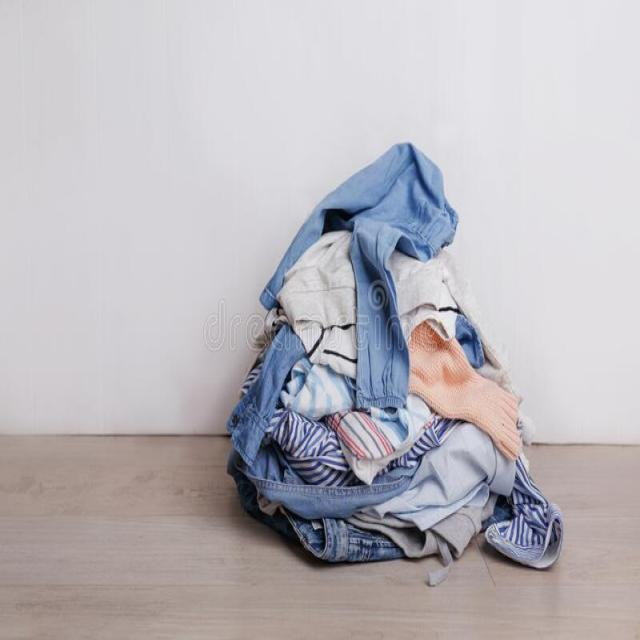clothes: (229, 131, 580, 596)
